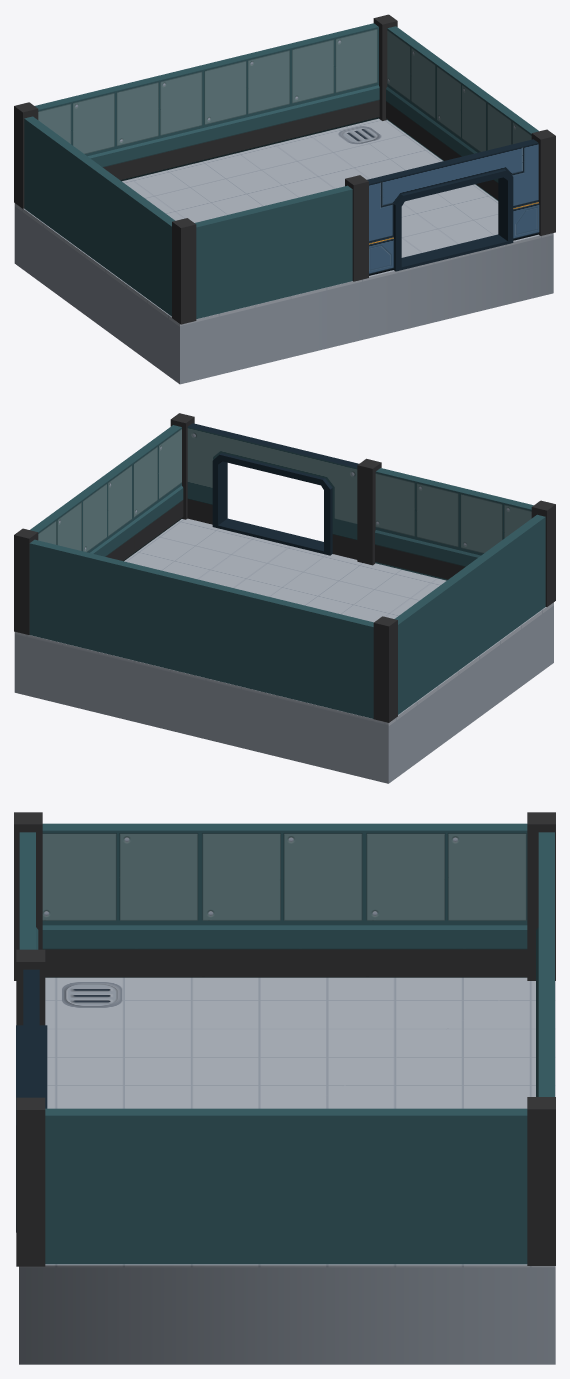
File: Communication.dae
The picture shows the model from 3 angles, top to bottom: view 1: azimuth 30°, elevation 25°; view 2: azimuth 150°, elevation 25°; view 3: azimuth 270°, elevation 25°; orthographic projection. The views are drawn at different scales.
Visible parts, largest first — view 1: Cube.200, Cube.164, Cube.030, Cube.029, Cube.118, Cube.111, Cube.113, Cube.136, Cube.112, Cube.114, Cube.115; view 2: Cube.200, Cube.164, Cube.029, Cube.030, Cube.118, Cube.111, Cube.114, Cube.112, Cube.115, Cube.113, Cube.136; view 3: Cube.200, Cube.111, Cube.029, Cube.136, Cube.115, Cube.164, Cube.118, Cube.114, Cube.113, Cube.030, Cube.112.
Part boxes in pixels (box(x1,y1,x2,y2)): Cube.200: box(14, 118, 553, 384); Cube.164: box(35, 23, 379, 181); Cube.030: box(195, 185, 352, 318); Cube.029: box(24, 116, 175, 316); Cube.118: box(367, 139, 539, 275); Cube.111: box(386, 26, 538, 200); Cube.113: box(172, 218, 196, 324); Cube.136: box(531, 129, 555, 235); Cube.112: box(345, 175, 368, 281); Cube.114: box(14, 102, 38, 208); Cube.115: box(373, 14, 397, 120); Cube.200: box(14, 518, 553, 783); Cube.164: box(29, 539, 373, 718); Cube.029: box(394, 514, 545, 714); Cube.030: box(375, 468, 533, 580); Cube.118: box(187, 423, 358, 559); Cube.111: box(30, 425, 183, 561); Cube.114: box(373, 616, 397, 722); Cube.112: box(357, 458, 381, 565); Cube.115: box(14, 528, 38, 634); Cube.113: box(531, 500, 555, 606); Cube.136: box(170, 413, 194, 519); Cube.200: box(19, 977, 555, 1364); Cube.111: box(45, 1108, 527, 1264); Cube.029: box(42, 823, 527, 977); Cube.136: box(16, 1097, 45, 1266); Cube.115: box(527, 1097, 555, 1265); Cube.164: box(536, 832, 554, 1096); Cube.118: box(16, 969, 47, 1232); Cube.114: box(527, 812, 555, 980); Cube.113: box(14, 812, 42, 980); Cube.030: box(19, 832, 38, 949); Cube.112: box(16, 949, 45, 1025).
Size of the model in its own units: 12.87 by 9.9 by 5.16.
